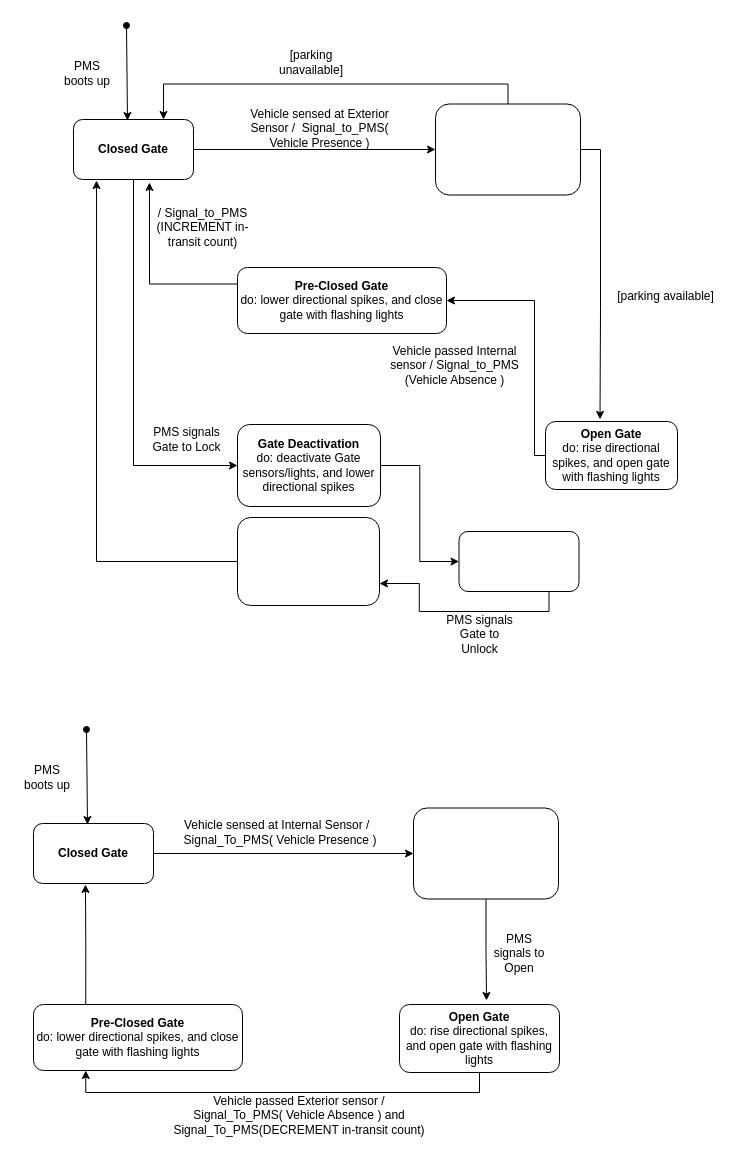
This 743x1175 diagram has some shape labels left out. The shapes that lost their labels are listed below. From the top down, each one's centre as x and y in pixels, then its label:
At point 507,149: "Pre-Opened Gate do: verify availability".
At point 308,561: "Gate Reactivation do: reactivate gate sensors/lights".
At point 518,561: "Locked Gate".
At point 485,853: "Pre-Opened Gate do: analyze PMS signal".
